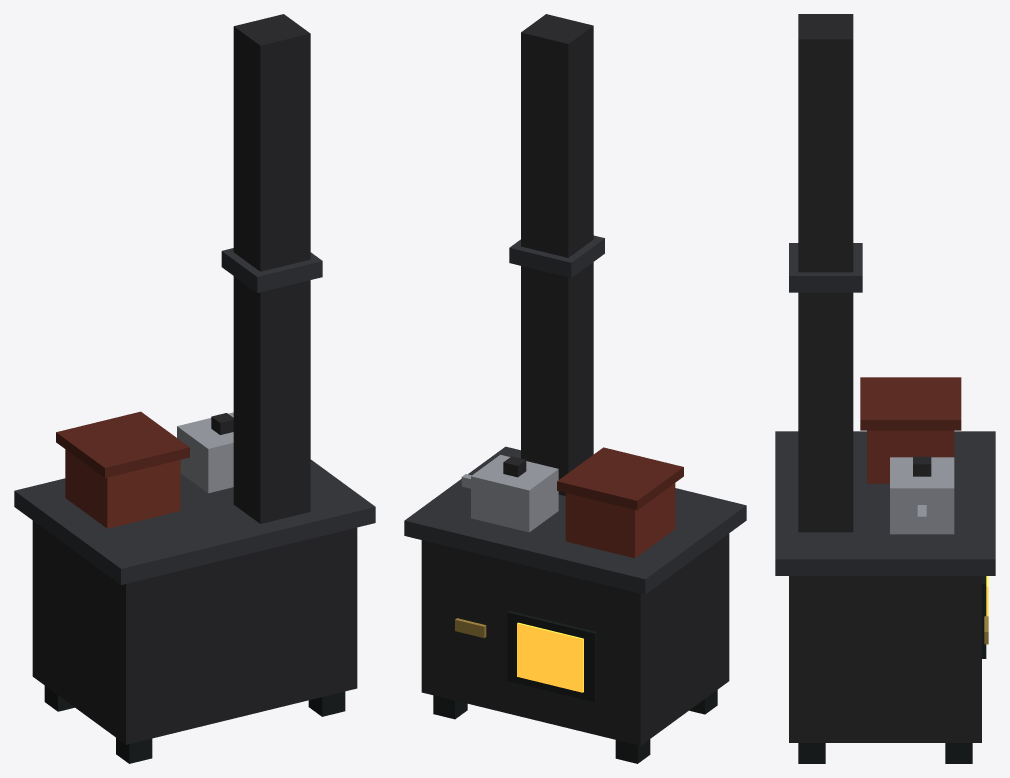
Rendered from xma-stove.glb.
3 views of the same model, side by side, from view 1: azimuth 30°, elevation 25°; view 2: azimuth 150°, elevation 25°; view 3: azimuth 270°, elevation 25° (orthographic). The views are drawn at different scales.
Parts seen in each view (by area): view 1: box-prop; view 2: box-prop; view 3: box-prop.
Boxes of the visible parts, x1,y1,x2,y2 form: box-prop: [14, 14, 375, 763]; box-prop: [404, 14, 746, 763]; box-prop: [775, 14, 995, 763].
Bounding box in the file's own units: 1.32 × 3.4 × 0.96.
